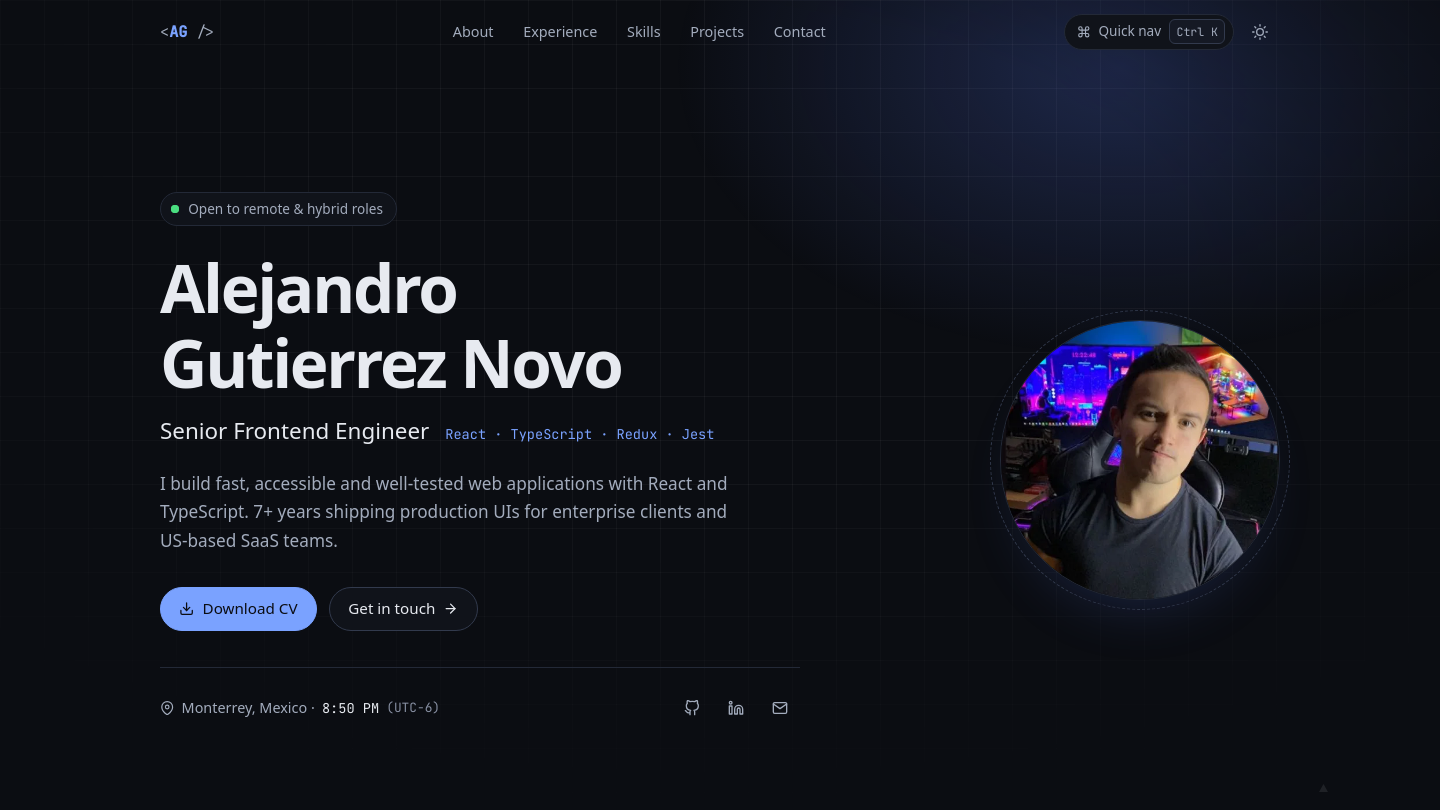
Test: CommandPalette › filters commands as you type and shows an empty state
The image size is (1440, 810).
Type keys "{Control>}k{/Control}"
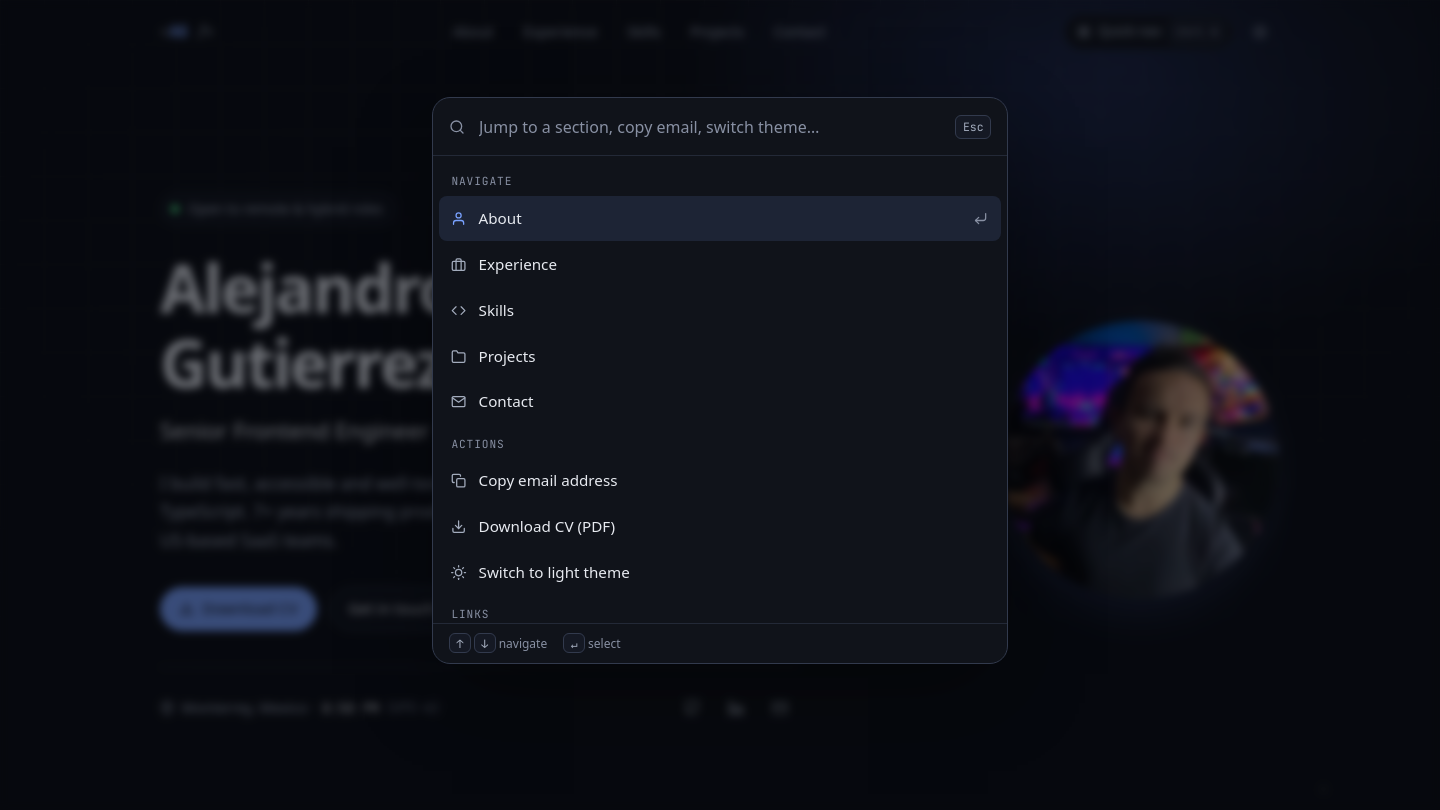
Type "proj" into the dropdown at {"x": 710, "y": 127}, box [477,113,944,141]
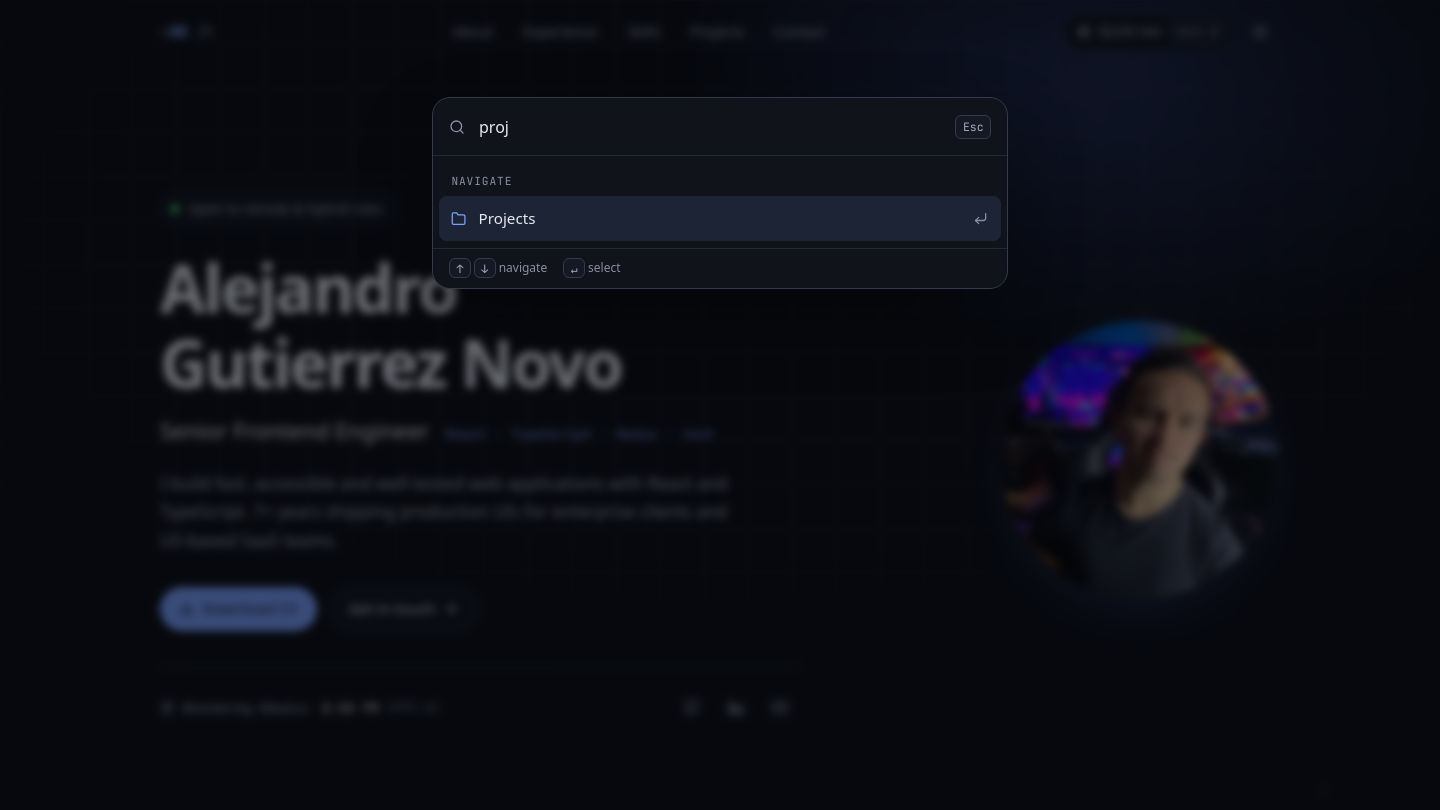
Check: the number of options is 1, box [439,196,1001,242]
Replace the text in the dropdown with "zzz" at {"x": 710, "y": 127}, box [477,113,944,141]
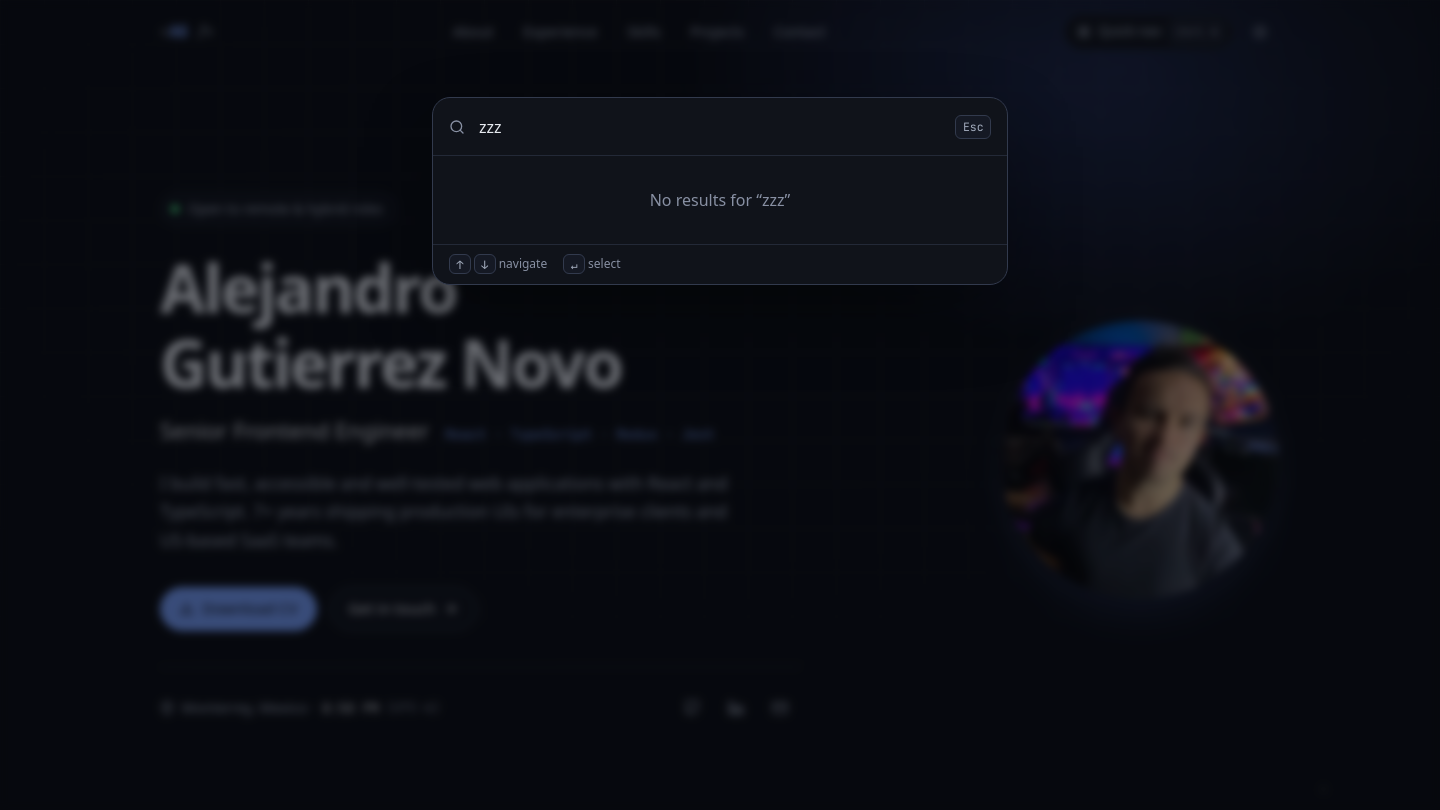
Check: no options are shown
Check: the list item "No results for “zzz”" is shown, box [650,189,790,211]
